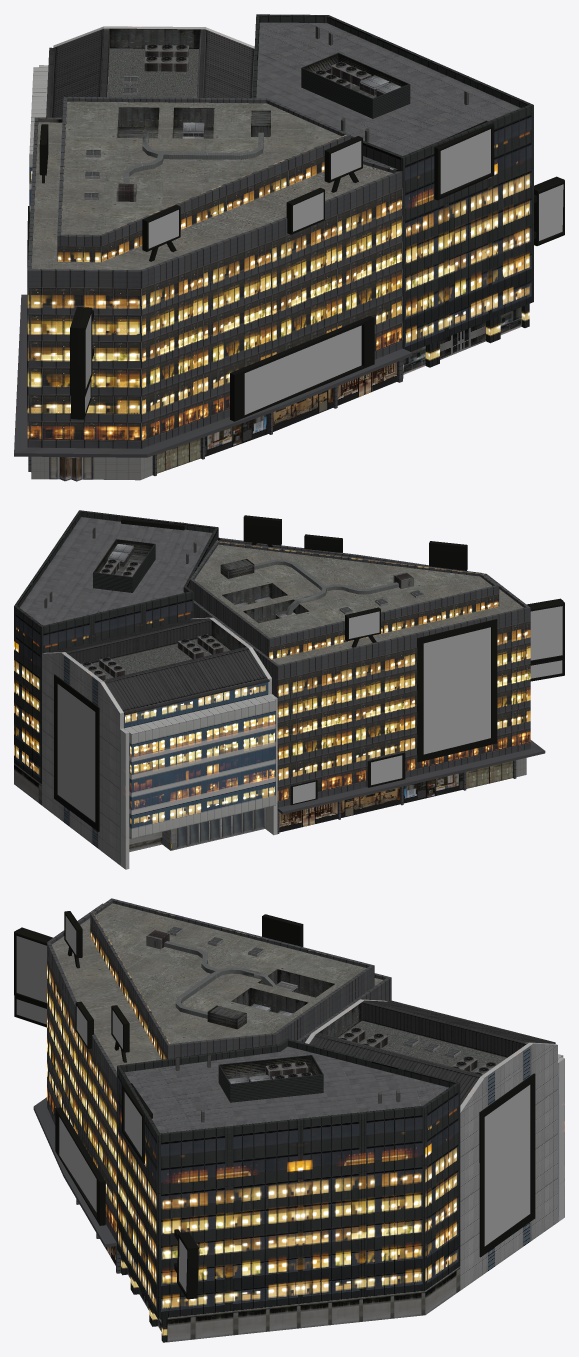
The model's file is BLD1310011.fbx.
3 views of the same model, one above another, from view 1: azimuth 30°, elevation 25°; view 2: azimuth 150°, elevation 25°; view 3: azimuth 270°, elevation 25° (orthographic). The views are drawn at different scales.
Visible parts, largest first — view 1: smBLD1310011; view 2: smBLD1310011; view 3: smBLD1310011.
Boxes of the visible parts, x1,y1,x2,y2 form: smBLD1310011: (14, 14, 564, 481); smBLD1310011: (14, 510, 564, 869); smBLD1310011: (14, 898, 564, 1342).
Bounding box in the file's own units: 5326 × 2124 × 4548.
6 materials, 1 textured.
